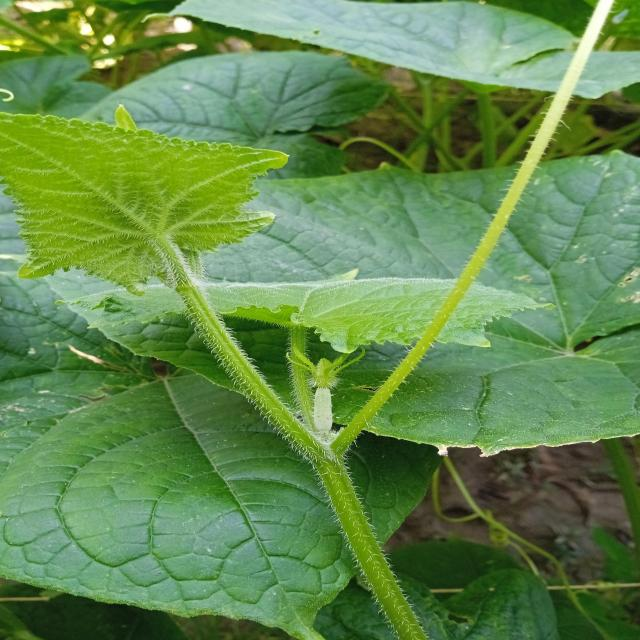cucumber_healthy: (0, 354, 436, 640), (267, 150, 640, 462), (0, 100, 292, 302), (165, 0, 640, 105), (300, 265, 557, 362)
